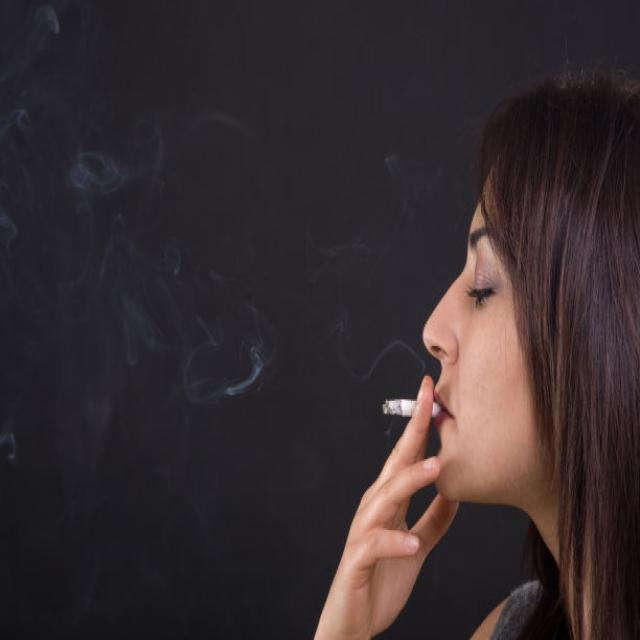smoke: (382, 401, 416, 419)
